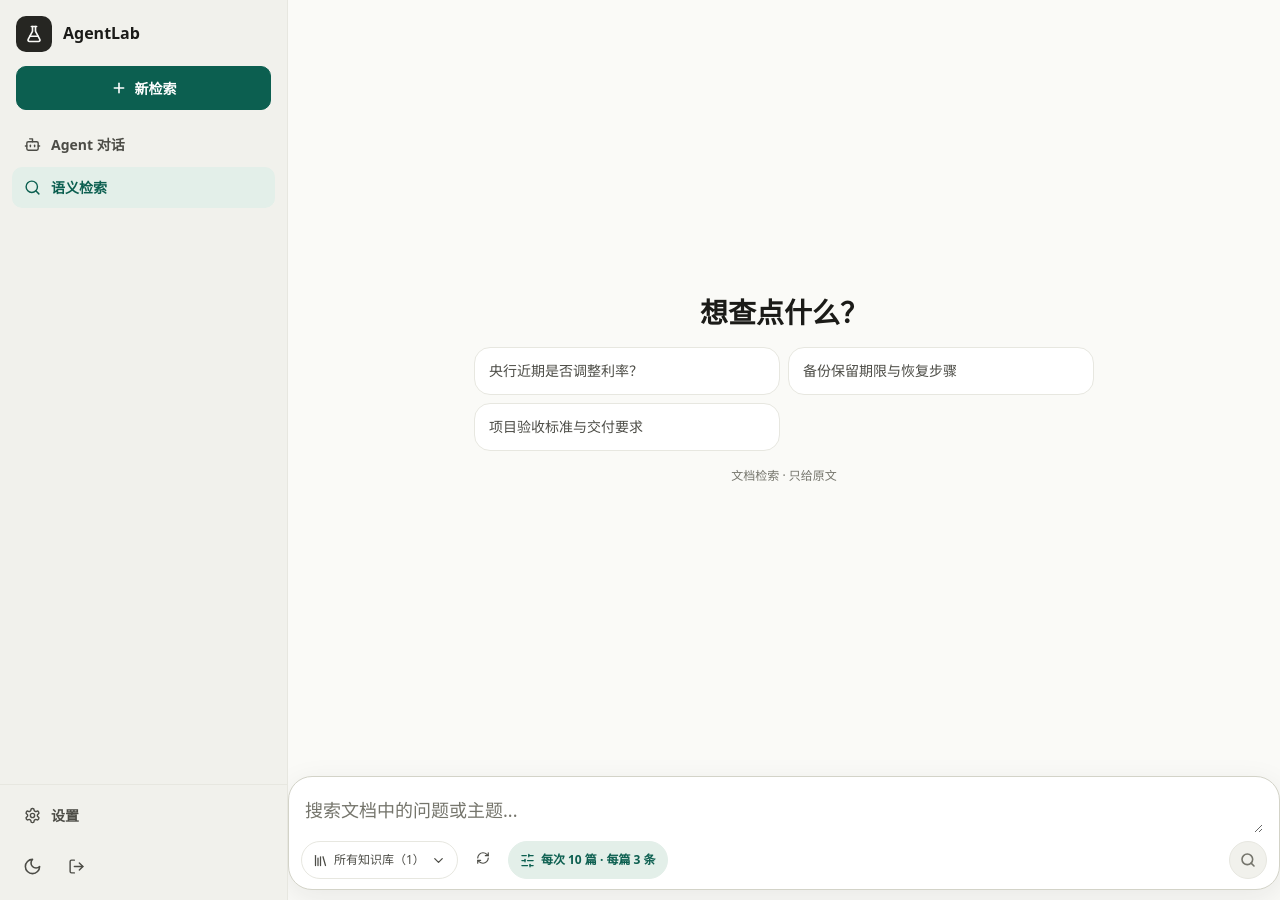
SearchPage search stream › clear-stream empties the records back to the empty state
The width and height of the screenshot is (1280, 900).
In the text box with placeholder "搜索文档中的问题或主题...": [784, 811] box [305, 789, 1263, 833], type "央行"
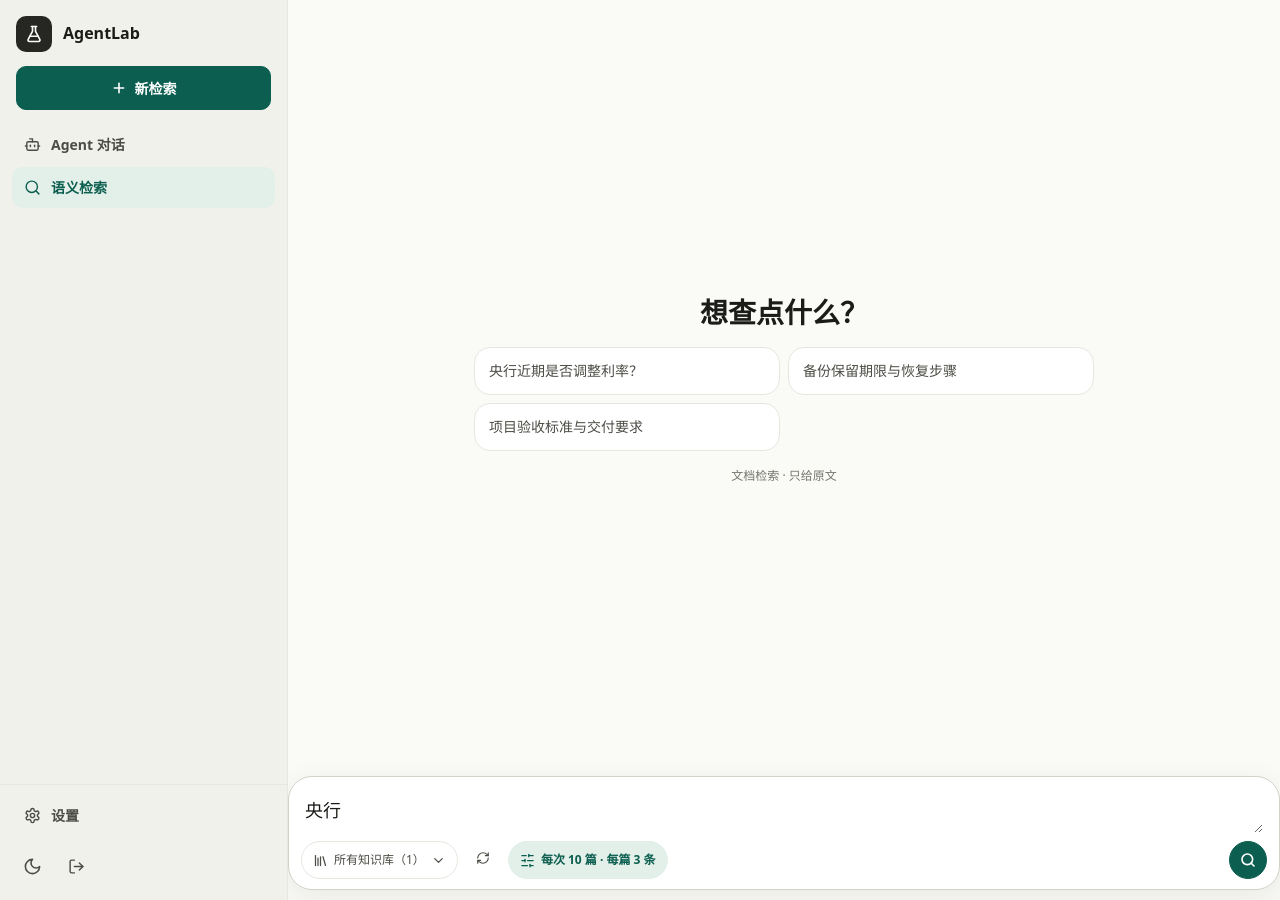
Submit the form, box [288, 776, 1279, 890]
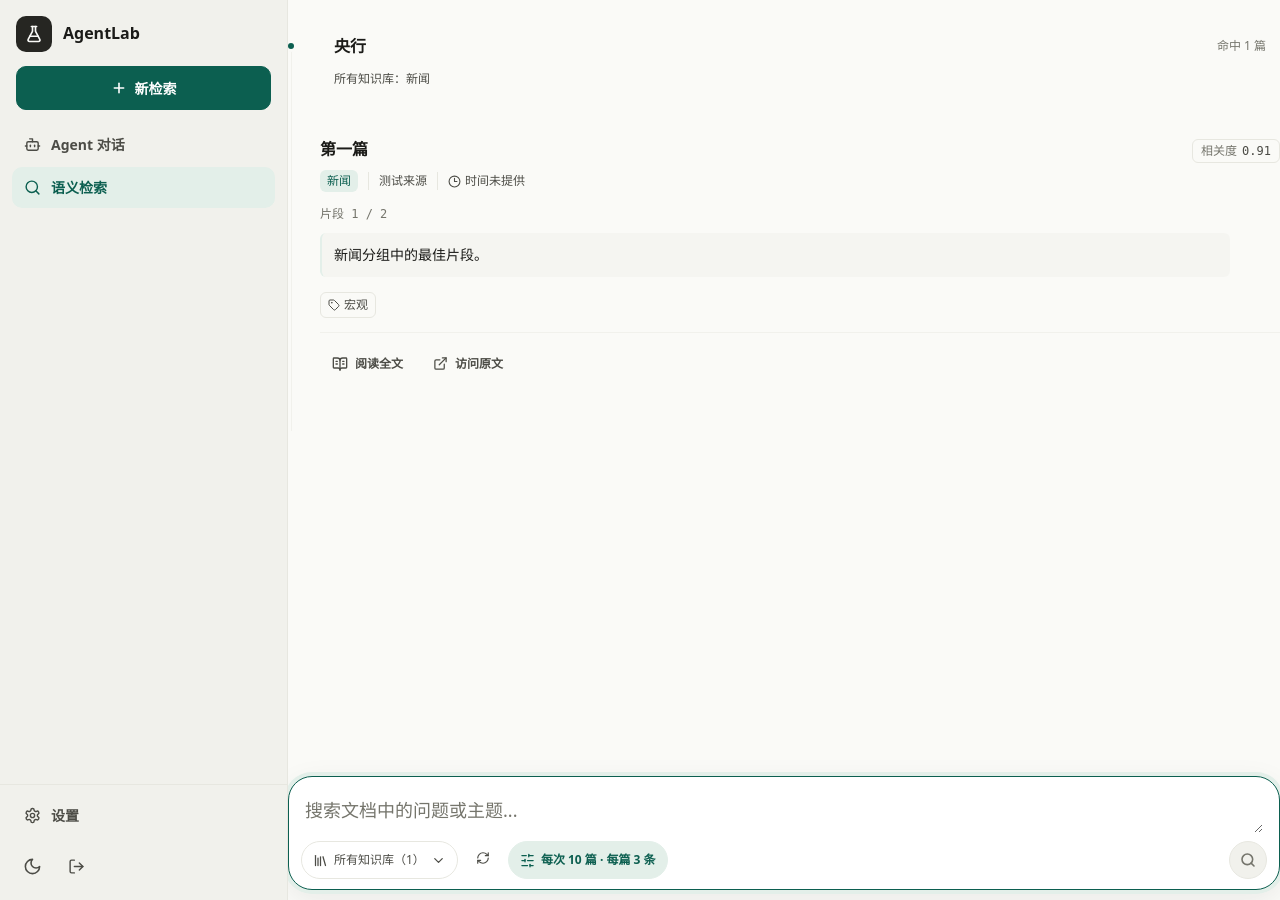
Check: the number of elements with class "record" is 1, box [288, 24, 1279, 430]
Click the button "新检索": [144, 88] box [16, 66, 271, 110]
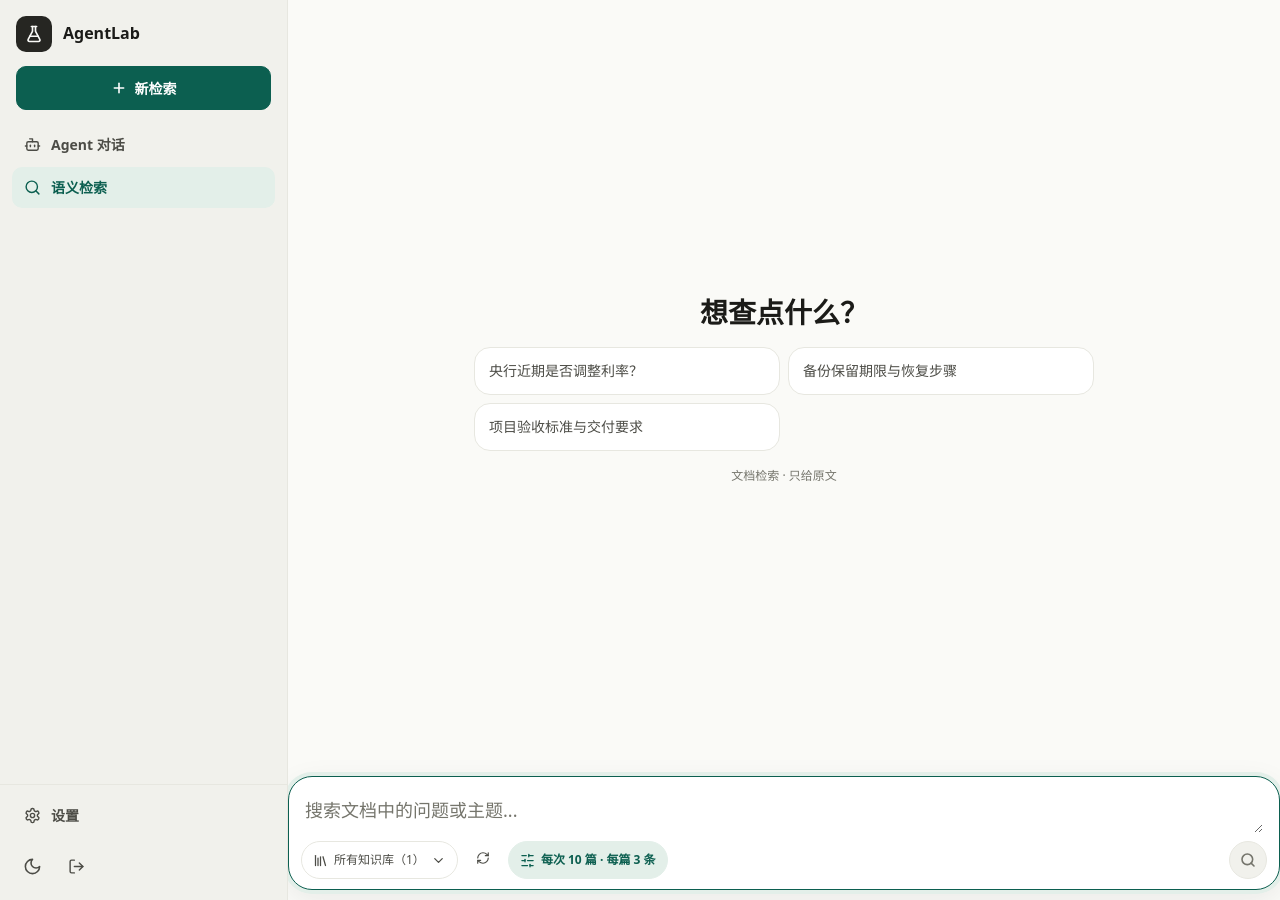
Check: the element with class "empty-state" is shown, box [474, 347, 1094, 486]
Check: no elements with class "record" are shown
